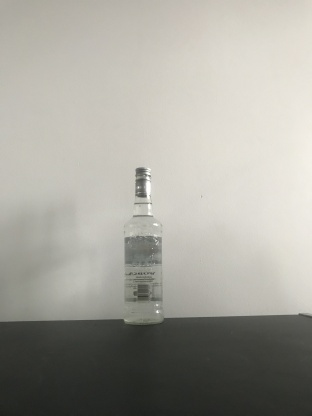nakretka: (133, 165, 152, 197)
